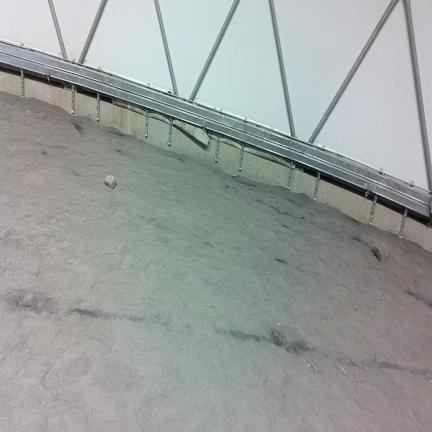Rock: (373, 243, 388, 261), (105, 175, 115, 189), (27, 162, 30, 166)
